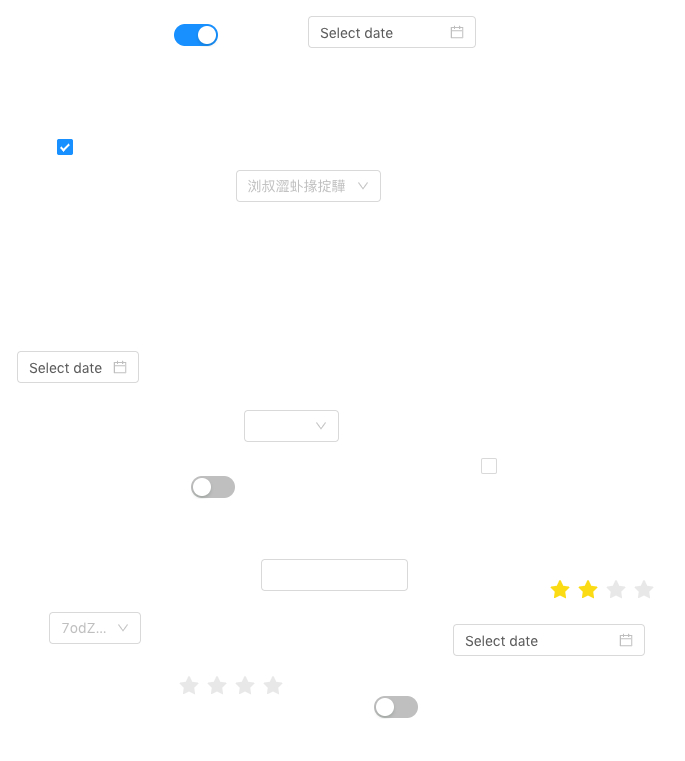Checkbox: (481, 455, 497, 476), (57, 136, 73, 157)
DatePicker: (453, 624, 645, 656), (308, 16, 476, 48), (17, 351, 139, 383)
Input: (261, 559, 408, 591)
Rate: (179, 669, 299, 701), (550, 573, 670, 605)
Select: (236, 170, 381, 202), (244, 410, 339, 442), (49, 612, 141, 644)
Switch: (191, 475, 235, 499), (374, 695, 418, 719), (174, 23, 218, 47)
